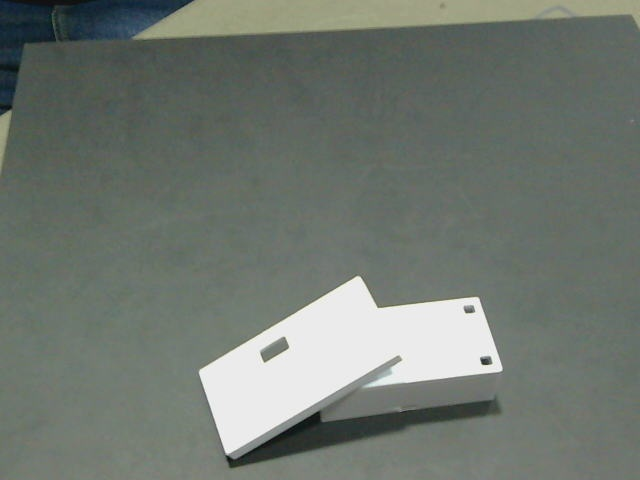enclosure_good: (199, 277, 502, 453)
